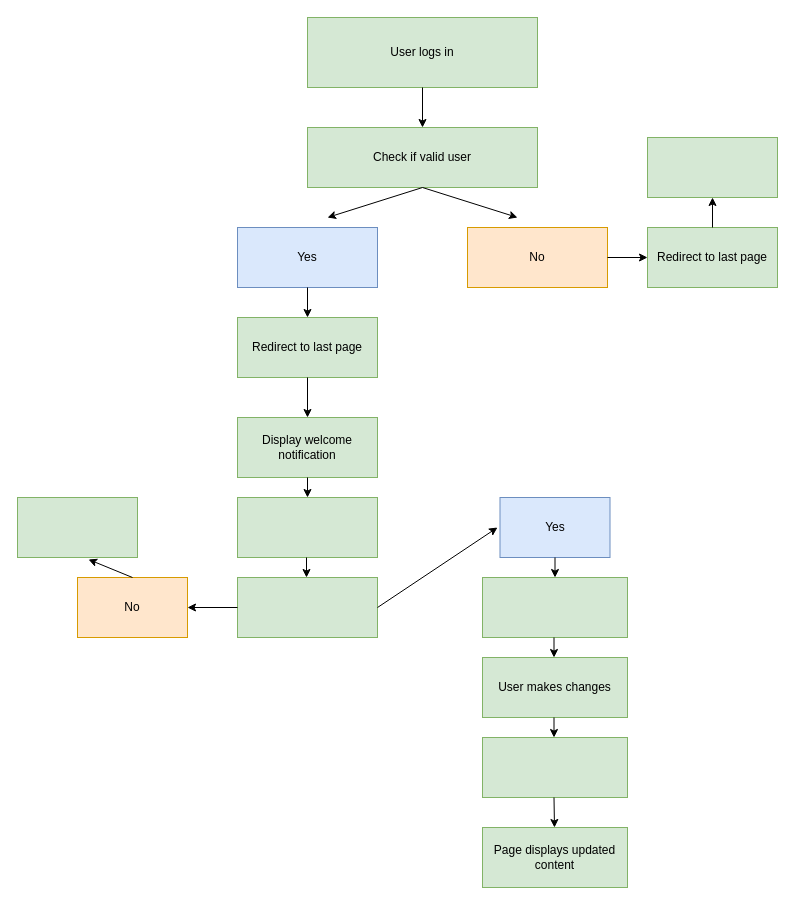
The diagram is 795 pixels wide and 905 high, and some of its shapes have lost their labels. The shapes that lost their labels are listed below. From the top down, each one's box as (x1, y1, x2, y2) in pixels, then its label:
(646, 136, 778, 198): Display notification about registration form
(16, 496, 138, 558): Page is read only
(236, 496, 378, 558): User goes to editable page
(236, 576, 378, 638): User has editing credentials?
(482, 576, 628, 638): User clicks edit button
(482, 736, 628, 798): User clicks save button
